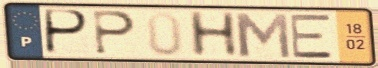0: (144, 10, 185, 58)
E: (287, 13, 337, 60)
H: (185, 10, 242, 59)
M: (231, 11, 294, 60)
P: (44, 8, 92, 57), (91, 9, 138, 57)
